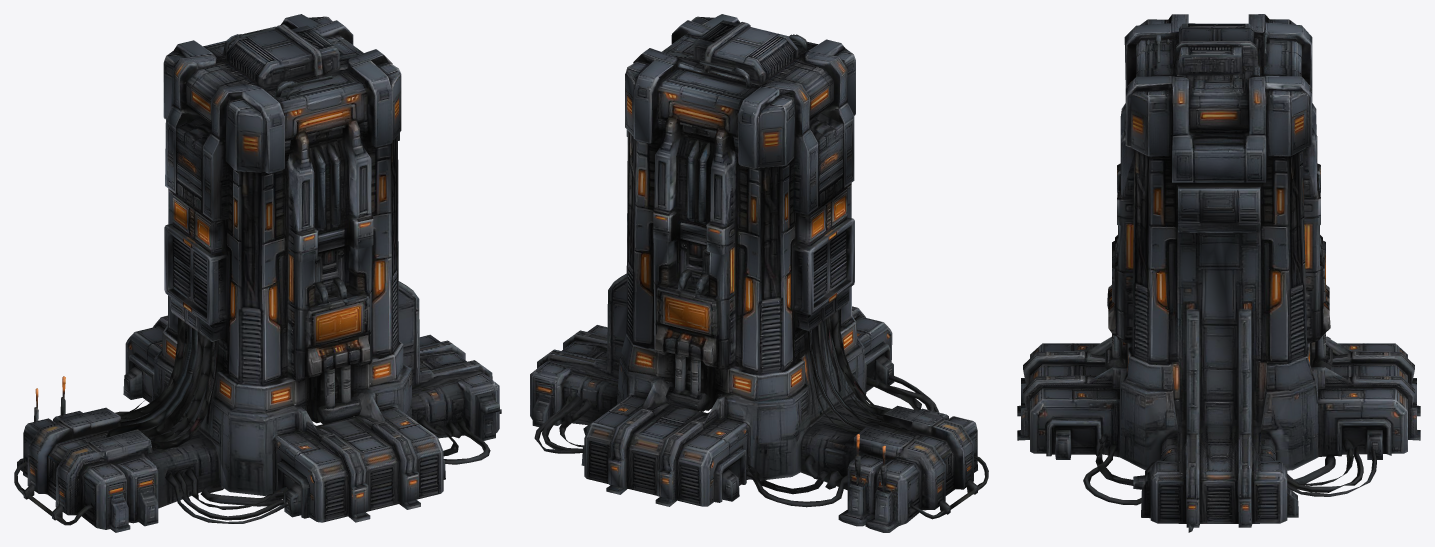
File: selected.glb
3 renders of one model, left to right at view 1: azimuth 30°, elevation 25°; view 2: azimuth 150°, elevation 25°; view 3: azimuth 270°, elevation 25°, orthographic. The views are drawn at different scales.
Parts seen in each view (by area): view 1: tripo_node_081add62-eeda-4dec-bf33-f5c64f73d49f; view 2: tripo_node_081add62-eeda-4dec-bf33-f5c64f73d49f; view 3: tripo_node_081add62-eeda-4dec-bf33-f5c64f73d49f.
Part boxes in pixels (x1,y1,x2,y2): tripo_node_081add62-eeda-4dec-bf33-f5c64f73d49f: (14, 14, 501, 532); tripo_node_081add62-eeda-4dec-bf33-f5c64f73d49f: (530, 14, 988, 532); tripo_node_081add62-eeda-4dec-bf33-f5c64f73d49f: (1017, 14, 1420, 532).
Size of the model in its own units: 0.998 by 0.9043 by 0.8145.
Materials: 1 (1 with a texture image).
